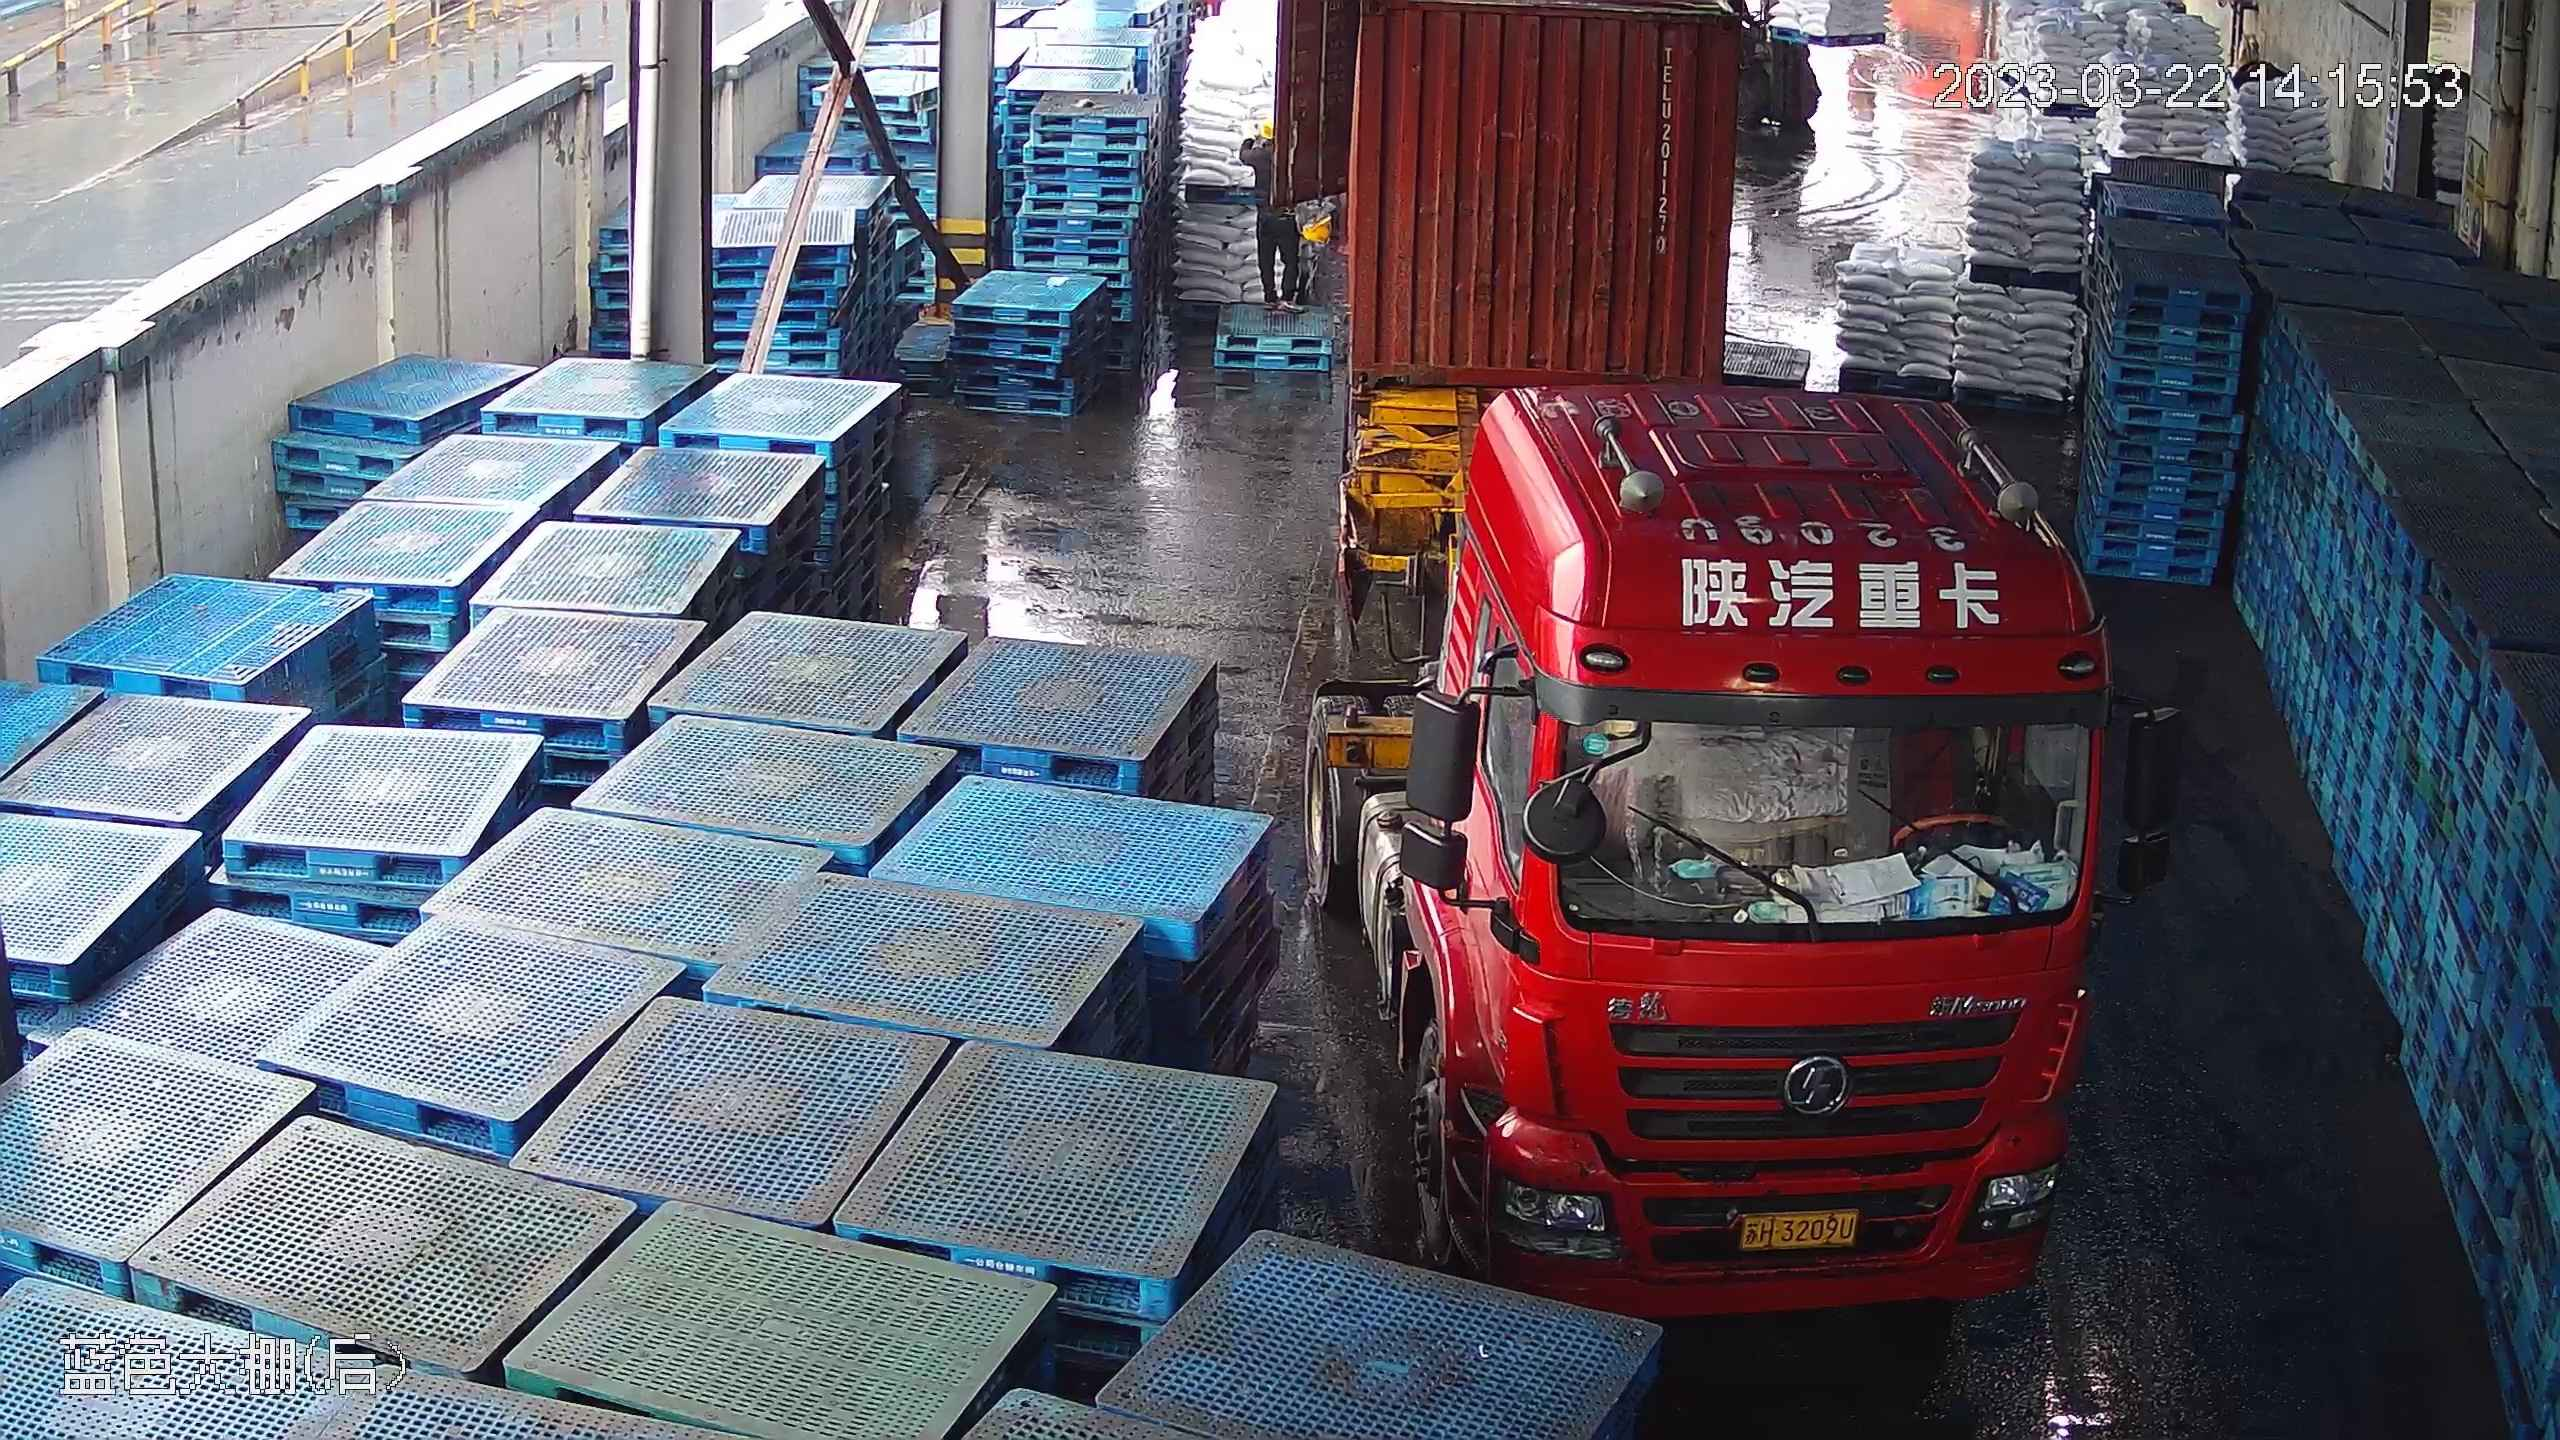head: (1243, 118, 1286, 169)
helmet: (1302, 213, 1334, 239), (1255, 115, 1278, 136)
people: (1244, 115, 1298, 306)
truck: (1313, 267, 2139, 1309)
